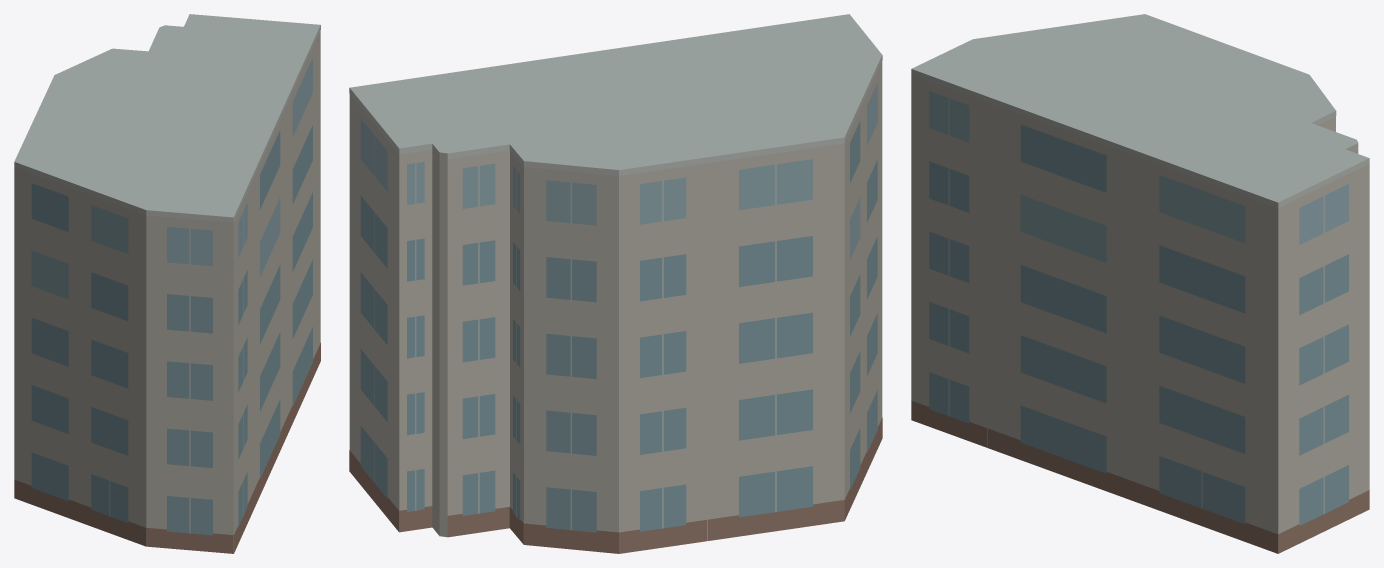
The model's file is survey-upis-32533575.glb.
3 views of the same model, side by side, from view 1: azimuth 30°, elevation 25°; view 2: azimuth 150°, elevation 25°; view 3: azimuth 270°, elevation 25° (orthographic). The views are drawn at different scales.
Parts seen in each view (by area): view 1: survey-upis-32533575.tmp; view 2: survey-upis-32533575.tmp; view 3: survey-upis-32533575.tmp.
Part boxes in pixels (box(x1,y1,x2,y2)): survey-upis-32533575.tmp: box(14, 14, 320, 553); survey-upis-32533575.tmp: box(349, 14, 882, 553); survey-upis-32533575.tmp: box(911, 14, 1369, 553).
Size of the model in its own units: 18.07 by 15.68 by 18.55.
